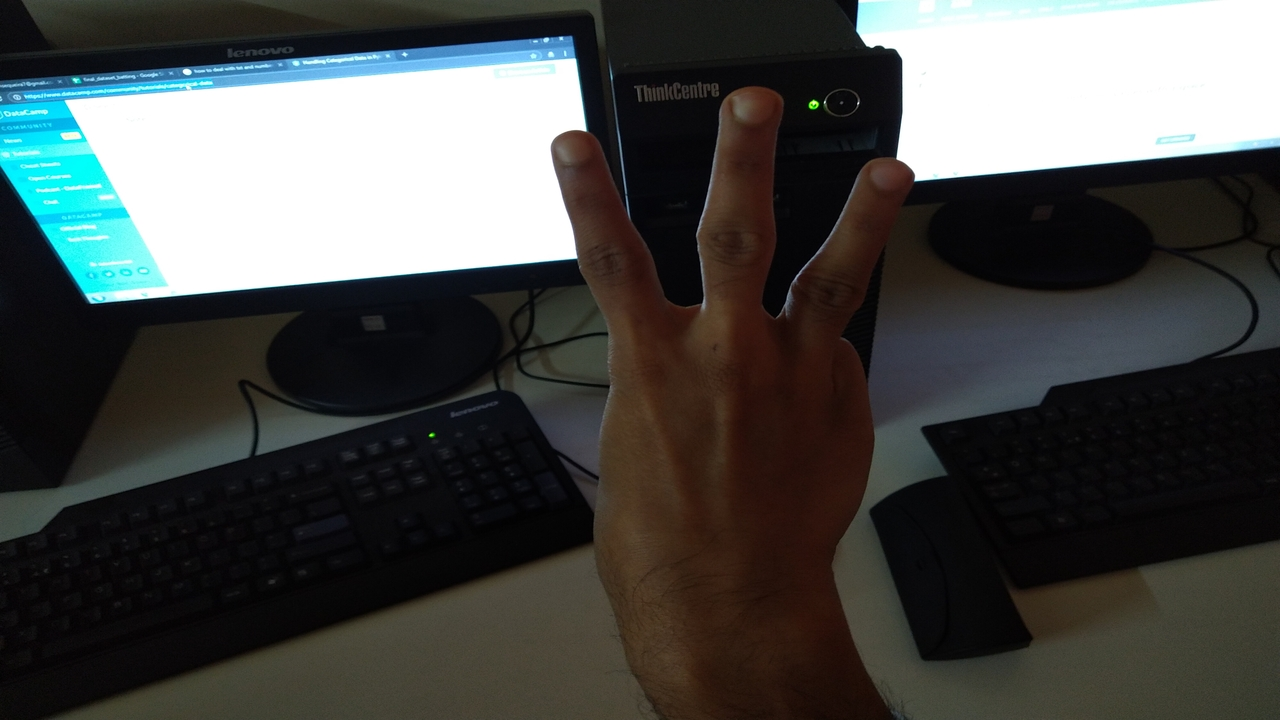fingertip: (714, 82, 784, 142), (856, 150, 922, 204), (540, 124, 602, 176)
